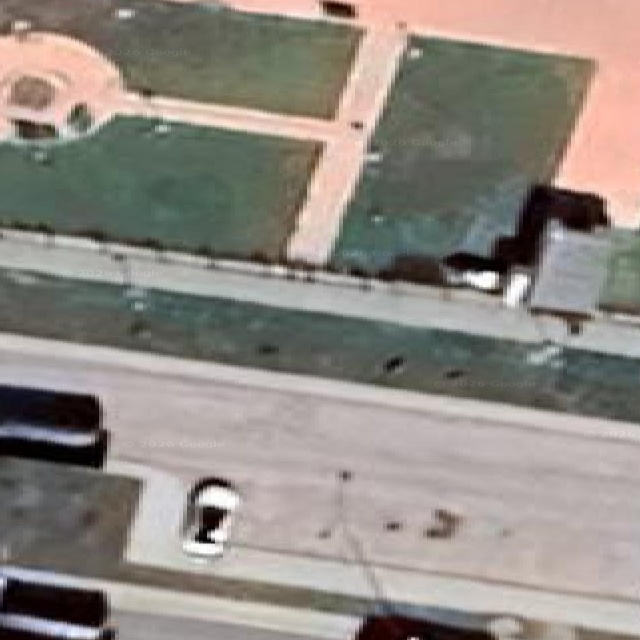car: (0, 385, 108, 467), (0, 567, 115, 639), (182, 478, 239, 558)
